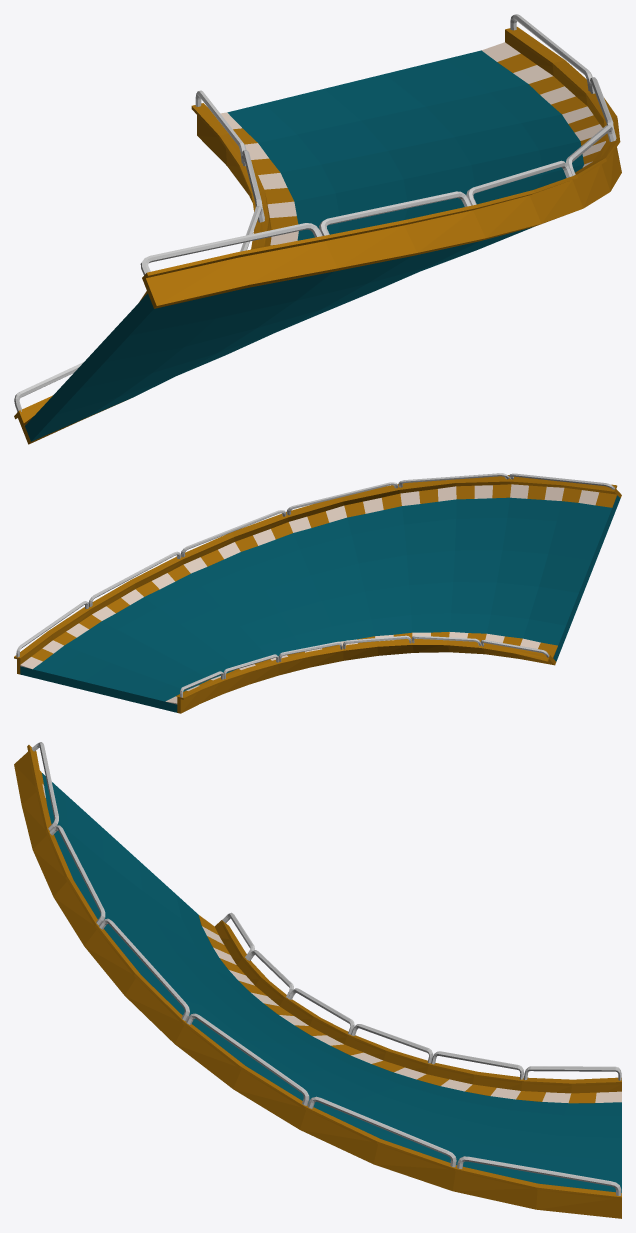
The model's file is curveRight-90-Banked-45.FBX.
3 renders of one model, top to bottom at view 1: azimuth 30°, elevation 25°; view 2: azimuth 150°, elevation 25°; view 3: azimuth 270°, elevation 25°, orthographic. The views are drawn at different scales.
Parts seen in each view (by area): view 1: curveRight-90-banked-45, wall_l, wall_r, curbs_l, curbs_r; view 2: curveRight-90-banked-45, wall_l, curbs_l, wall_r, curbs_r; view 3: curveRight-90-banked-45, wall_l, wall_r, curbs_r.
Boxes of the visible parts, <box> form: curveRight-90-banked-45: <box>25,50,583,441</box>; wall_l: <box>140,14,621,308</box>; wall_r: <box>14,90,271,444</box>; curbs_l: <box>139,42,605,302</box>; curbs_r: <box>24,112,298,425</box>; curveRight-90-banked-45: <box>20,495,620,712</box>; wall_l: <box>14,473,621,674</box>; curbs_l: <box>20,484,617,669</box>; wall_r: <box>177,635,556,713</box>; curbs_r: <box>165,632,557,704</box>; curveRight-90-banked-45: <box>42,773,621,1192</box>; wall_l: <box>14,742,621,1218</box>; wall_r: <box>214,912,621,1093</box>; curbs_r: <box>198,915,621,1103</box>.
Size of what is drawn, in the model's own units: 485 by 167 by 444.
